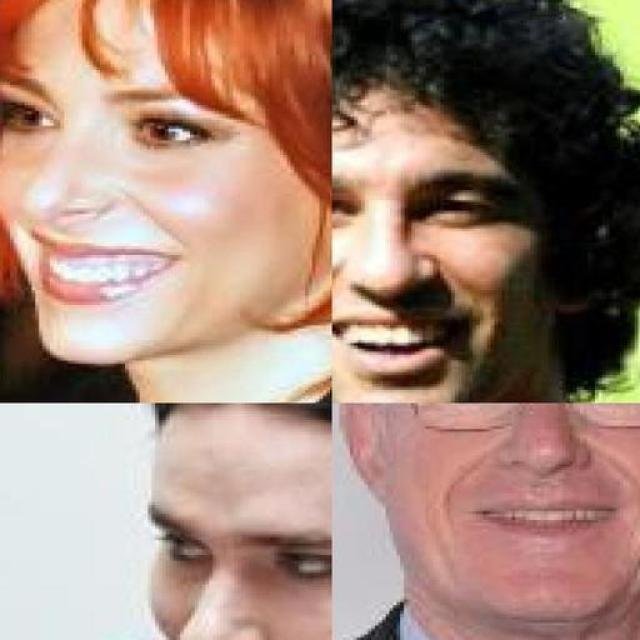bareface: (5, 6, 294, 380)
